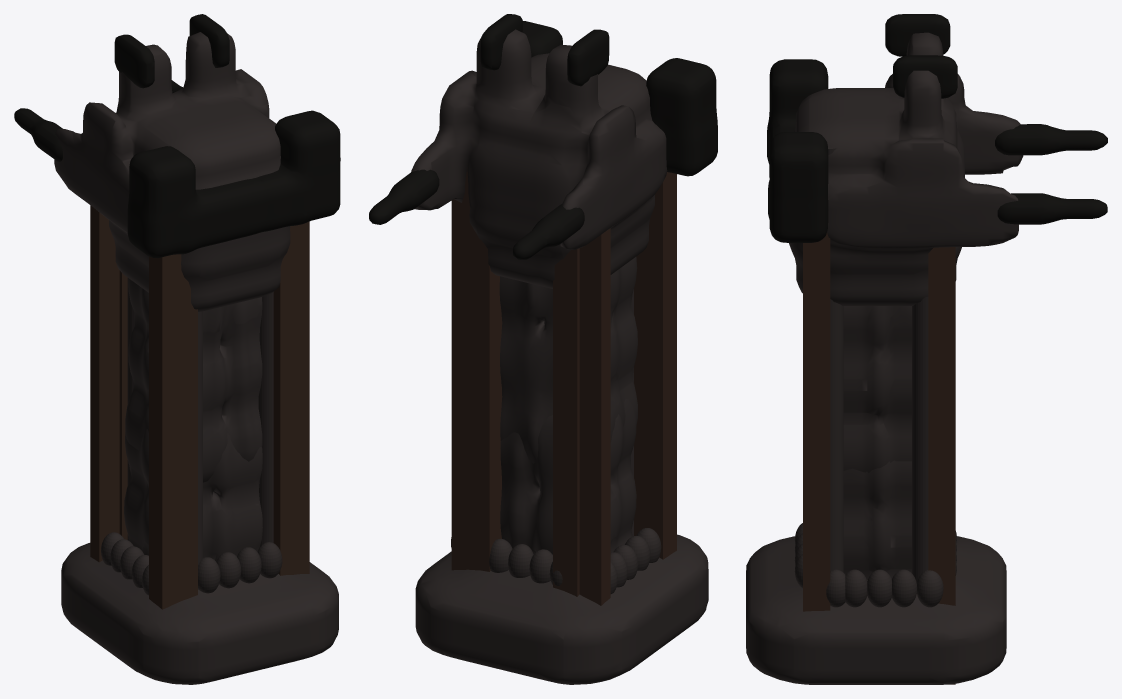
Rendered from tower 2.fbx.
3 renders of one model, left to right at view 1: azimuth 30°, elevation 25°; view 2: azimuth 150°, elevation 25°; view 3: azimuth 270°, elevation 25°, orthographic. The views are drawn at different scales.
Parts seen in each view (by area): view 1: Mball.013; view 2: Mball.013; view 3: Mball.013.
Boxes of the visible parts, x1,y1,x2,y2 form: Mball.013: (14, 14, 340, 684); Mball.013: (369, 14, 717, 684); Mball.013: (746, 14, 1107, 684).
Size of the model in its own units: 398 by 1137 by 603.
